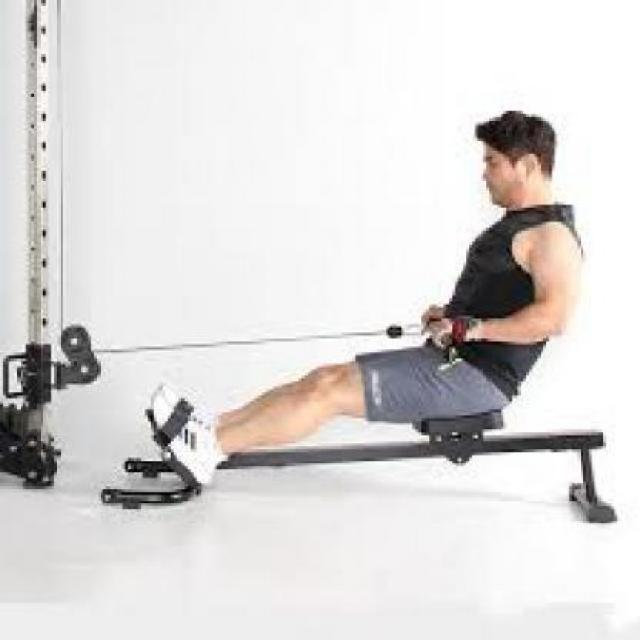Seated Cable Rows: (0, 0, 622, 540)
